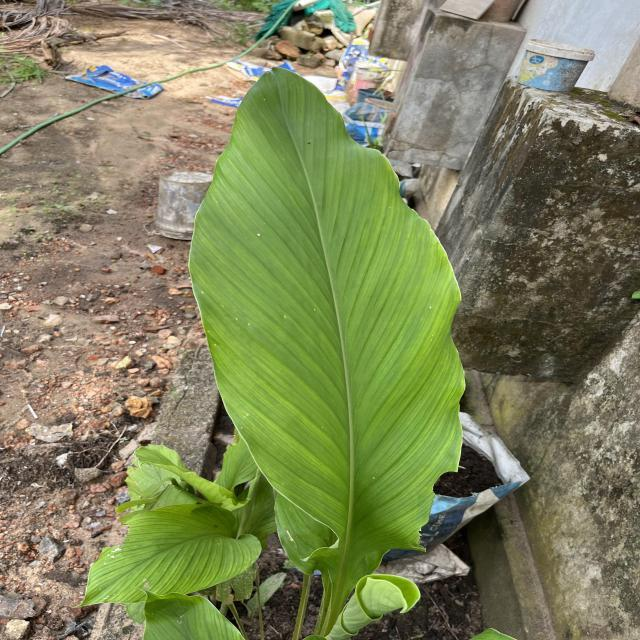Curcuma longa: (178, 51, 472, 603)
